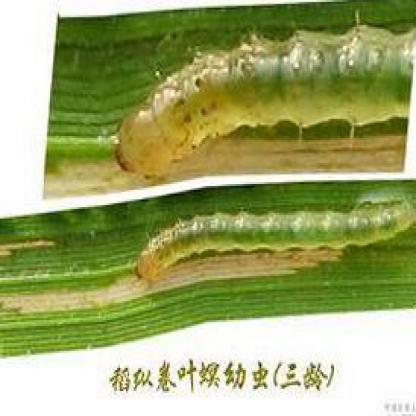leaf-folder: (105, 21, 416, 176), (134, 192, 404, 299)
